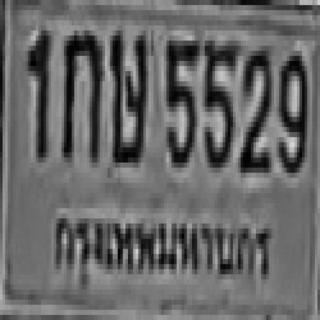A01: (60, 26, 98, 158)
A39: (109, 25, 145, 163)
N01: (26, 23, 48, 155)
N02: (238, 46, 269, 168)
N05: (202, 36, 236, 162), (164, 36, 197, 162)
N09: (276, 51, 305, 168)
P04: (49, 198, 276, 294)
